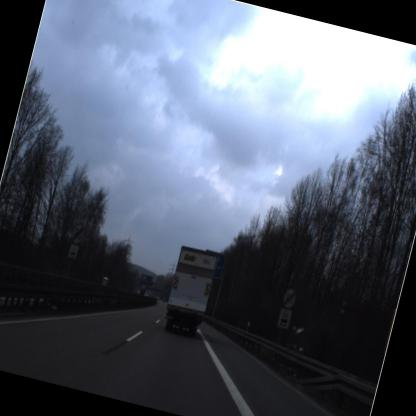other: (275, 281, 303, 316), (64, 216, 90, 250)
